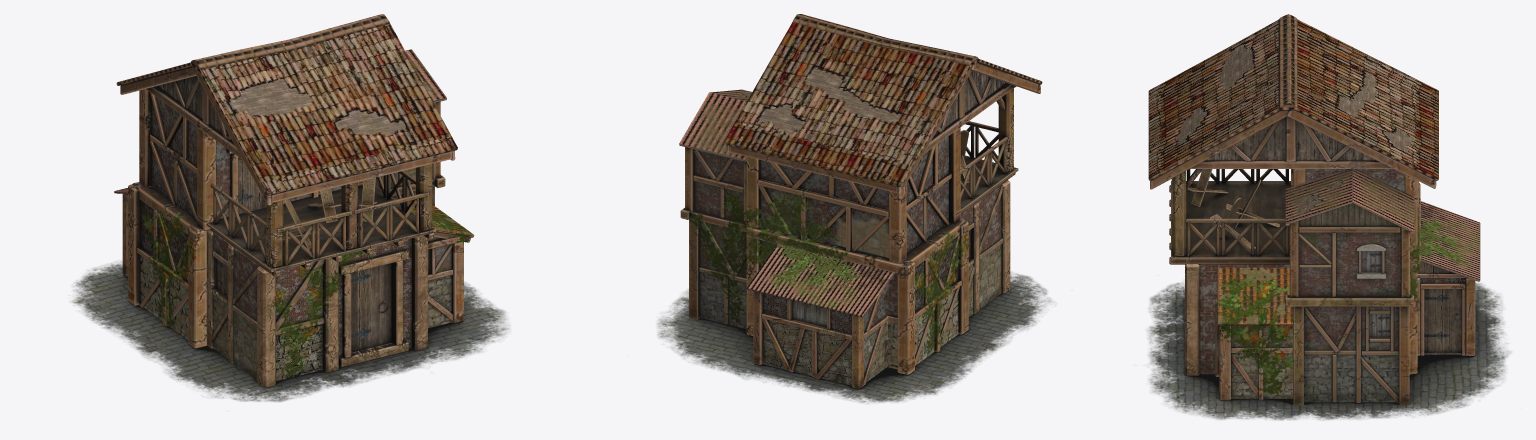
The model's file is casa_rustica.glb.
3 renders of one model, left to right at view 1: azimuth 30°, elevation 25°; view 2: azimuth 150°, elevation 25°; view 3: azimuth 270°, elevation 25°, orthographic. The views are drawn at different scales.
Visible parts, largest first — view 1: defaultMaterial (×9); view 2: defaultMaterial (×7); view 3: defaultMaterial (×9).
Part boxes in pixels (<box>): defaultMaterial (×9): <box>71,14,509,401</box>; defaultMaterial (×7): <box>657,14,1053,403</box>; defaultMaterial (×9): <box>1147,14,1510,420</box>.
Bounding box in the file's own units: 8.62 × 7 × 8.79.
Materials: 9 (9 with a texture image).
